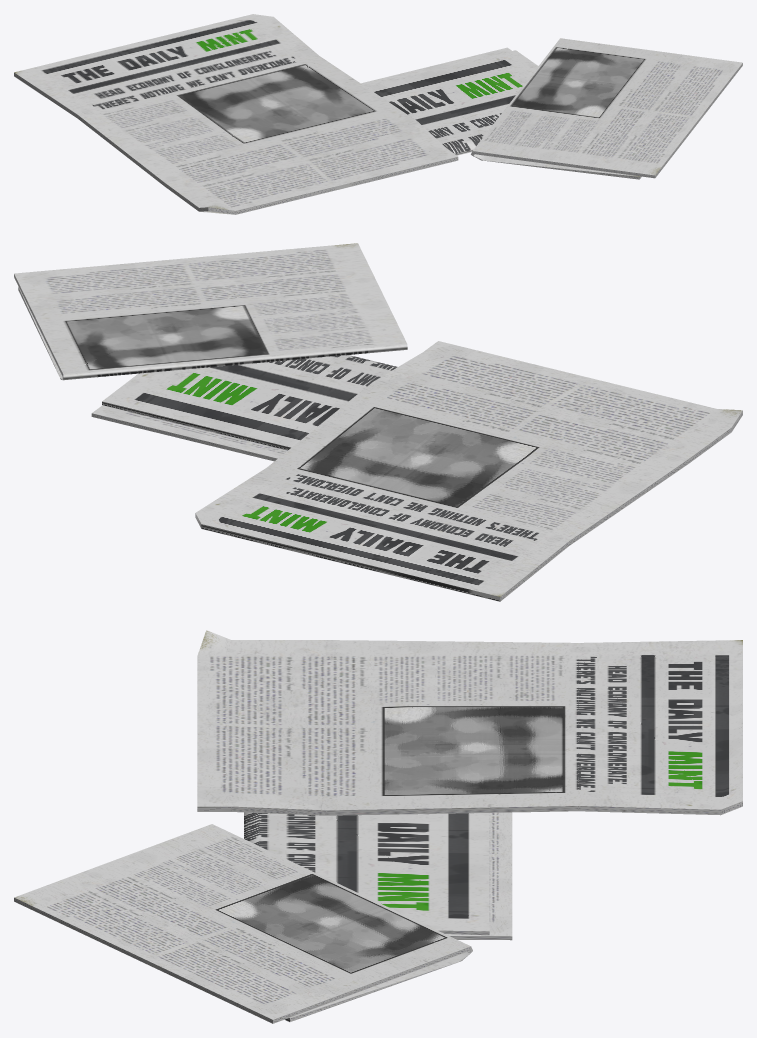
File: NewsPaper.fbx
The picture shows the model from 3 angles, top to bottom: view 1: azimuth 30°, elevation 25°; view 2: azimuth 150°, elevation 25°; view 3: azimuth 270°, elevation 25°; orthographic projection. The views are drawn at different scales.
Parts seen in each view (by area): view 1: pCube3, pCube2, pCube1; view 2: pCube3, pCube2, pCube1; view 3: pCube3, pCube2, pCube1.
Boxes of the visible parts, x1,y1,x2,y2 form: pCube3: (14,14,458,214); pCube2: (471,38,742,179); pCube1: (361,47,538,155); pCube3: (195,341,742,601); pCube2: (14,243,407,380); pCube1: (91,355,397,461); pCube3: (197,630,742,815); pCube2: (14,824,472,1023); pCube1: (244,812,512,940).
Bounding box in the file's own units: 2.3 × 0.0953 × 1.88.
